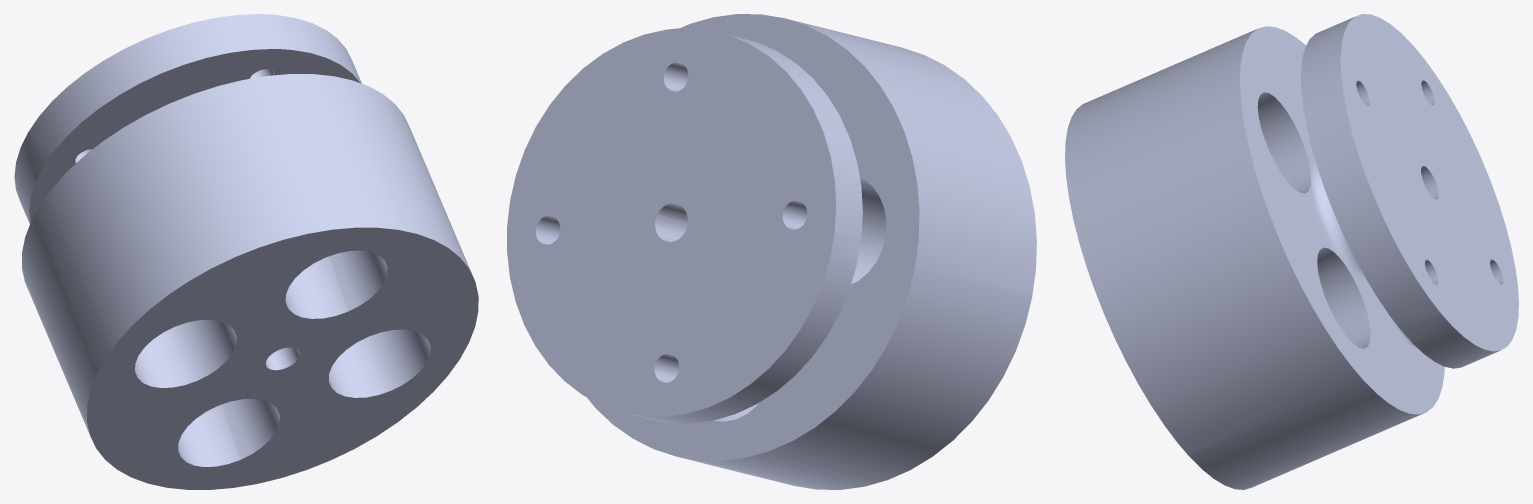
Rendered from c_3_robot_export_clean__motor_wheel_adapter_1.dae.
The picture shows the model from 3 angles, left to right: view 1: azimuth 30°, elevation 25°; view 2: azimuth 150°, elevation 25°; view 3: azimuth 270°, elevation 25°; orthographic projection. The views are drawn at different scales.
Parts seen in each view (by area): view 1: node0; view 2: node0; view 3: node0.
Boxes of the visible parts, <box> form: node0: <box>14,14,478,489</box>; node0: <box>507,14,1036,489</box>; node0: <box>1065,14,1518,489</box>.
Bounding box in the file's own units: 0.0483 × 0.0535 × 0.0498.
